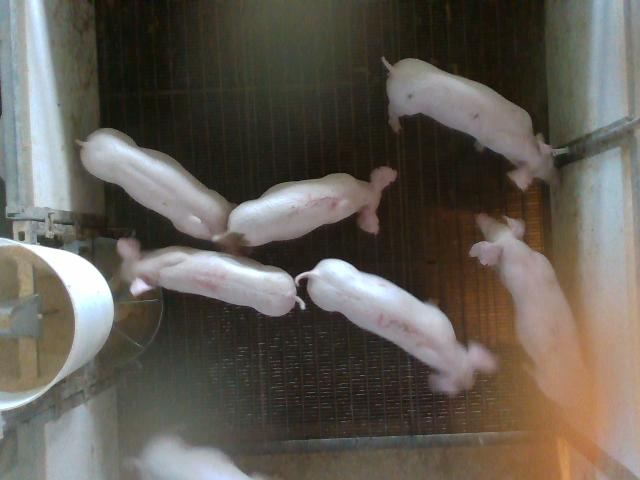pig-3: (296, 259, 498, 394)
pig-4: (118, 239, 304, 316)
pig-5: (225, 166, 396, 246)
